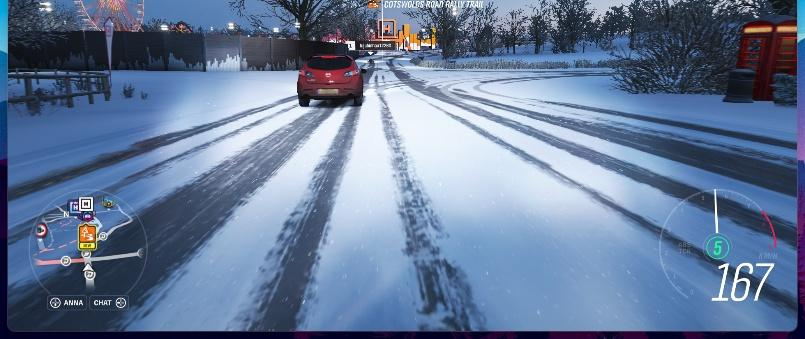Tree: (607, 0, 763, 94), (228, 0, 371, 41), (401, 4, 474, 60), (8, 0, 76, 56), (540, 0, 596, 53), (460, 1, 501, 56), (597, 4, 629, 50), (501, 7, 527, 53), (527, 13, 548, 53)
